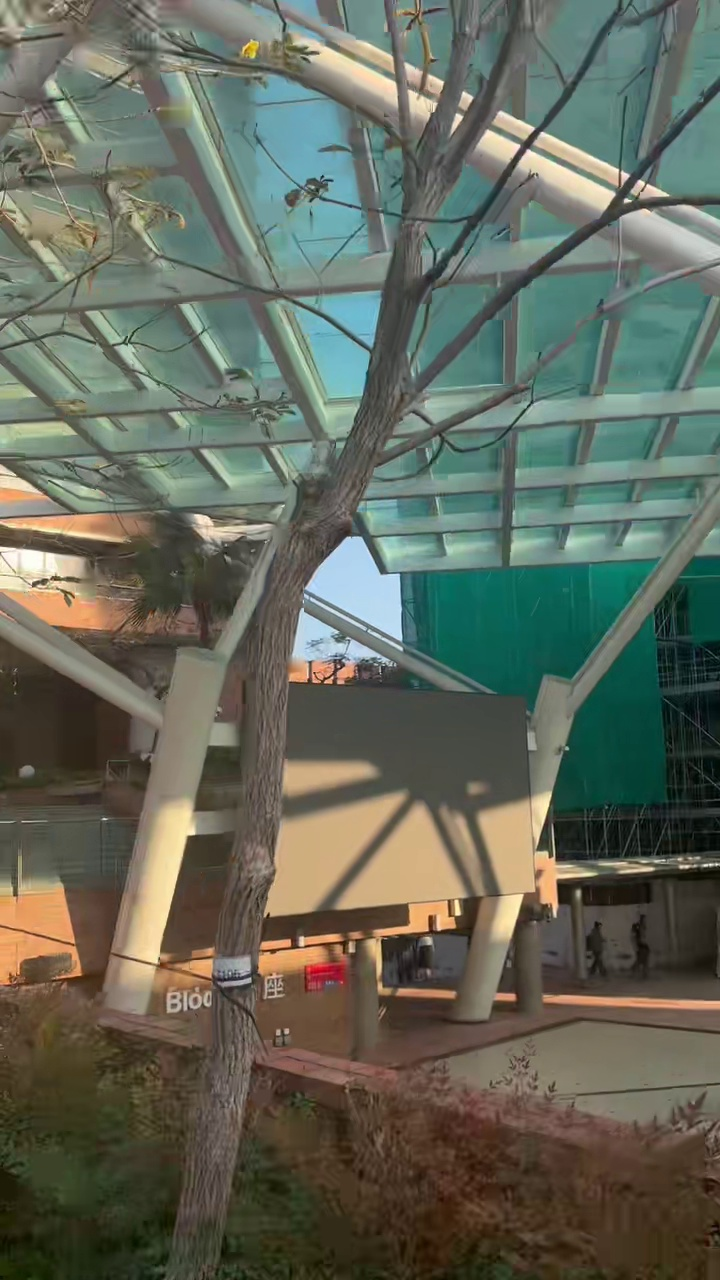Tabebuia chrysantha: (165, 0, 719, 1279)
